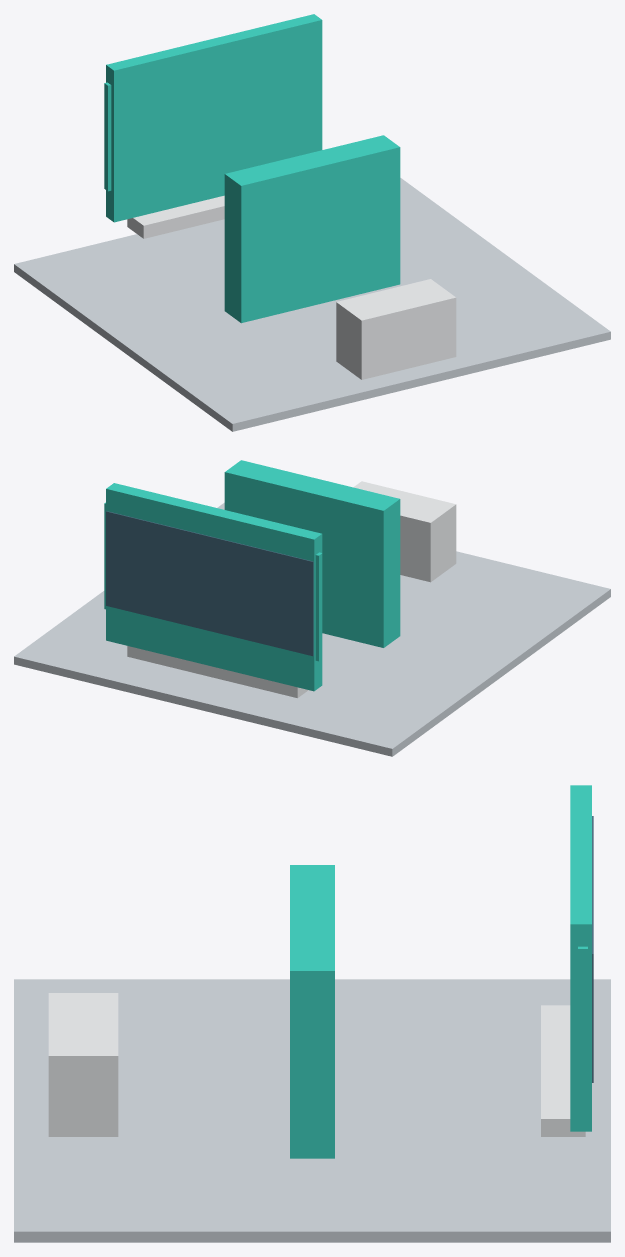
3 views of the same model, one above another, from view 1: azimuth 30°, elevation 25°; view 2: azimuth 150°, elevation 25°; view 3: azimuth 270°, elevation 25° (orthographic). The views are drawn at different scales.
Visible parts, largest first — view 1: Exhibition Booth Concept; view 2: Exhibition Booth Concept; view 3: Exhibition Booth Concept.
Part boxes in pixels (left/top/right/bottom): Exhibition Booth Concept: left=14, top=14, right=610, bottom=431; Exhibition Booth Concept: left=14, top=460, right=610, bottom=756; Exhibition Booth Concept: left=14, top=785, right=610, bottom=1242.
Size of the model in its own units: 6 by 2.9 by 6.
